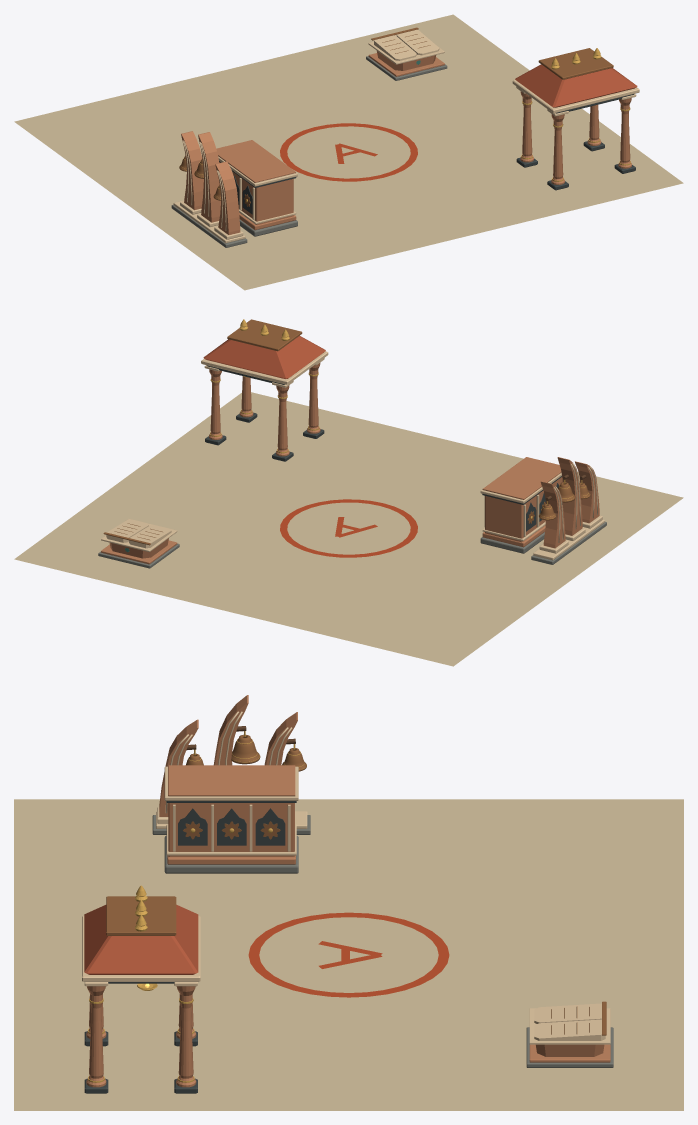
File: room-a.glb
3 views of the same model, one above another, from view 1: azimuth 30°, elevation 25°; view 2: azimuth 150°, elevation 25°; view 3: azimuth 270°, elevation 25° (orthographic). The views are drawn at different scales.
Parts seen in each view (by area): view 1: Surveyed floor · room-a, Ghat · open-sided audience mandapa · terracotta, Ghat · open-sided audience mandapa · sandstone, Ridge coping, Screen opaque masonry, Carved ghat rib 2, Ghat · open-sided audience mandapa · bronze, Carved ghat rib 1, Carved ghat rib 3, Ghat · open-sided audience mandapa · limestone, Ghat · open-sided audience mandapa · basalt, Sloped ledger leaf (+3 smaller); view 2: Surveyed floor · room-a, Ghat · open-sided audience mandapa · terracotta, Ghat · open-sided audience mandapa · sandstone, Ridge coping, Screen opaque masonry, Ghat · open-sided audience mandapa · bronze, Carved ghat rib 2, Carved ghat rib 3, Ghat · open-sided audience mandapa · limestone, Carved ghat rib 1, Ghat · open-sided audience mandapa · basalt, Sloped ledger leaf (+1 smaller); view 3: Surveyed floor · room-a, Ghat · open-sided audience mandapa · terracotta, Ridge coping, Screen opaque masonry, Ghat · open-sided audience mandapa · sandstone, Ghat · open-sided audience mandapa · bronze, Heel | river granite, Ghat · open-sided audience mandapa · limestone, Sloped ledger leaf.001, Sloped ledger leaf, Undercut skirt, Carved ghat rib 2 (+14 smaller).
Boxes of the visible parts, x1,y1,x2,y2 form: Surveyed floor · room-a: [14, 14, 683, 290]; Ghat · open-sided audience mandapa · terracotta: [515, 64, 637, 107]; Ghat · open-sided audience mandapa · sandstone: [520, 91, 631, 184]; Ridge coping: [216, 140, 295, 182]; Screen opaque masonry: [219, 162, 293, 225]; Carved ghat rib 2: [198, 132, 220, 222]; Ghat · open-sided audience mandapa · bronze: [538, 48, 613, 79]; Carved ghat rib 1: [215, 161, 240, 234]; Carved ghat rib 3: [181, 131, 203, 210]; Ghat · open-sided audience mandapa · limestone: [512, 80, 639, 116]; Ghat · open-sided audience mandapa · basalt: [516, 94, 635, 190]; Sloped ledger leaf: [374, 35, 416, 60]; Surveyed floor · room-a: [14, 392, 683, 666]; Ghat · open-sided audience mandapa · terracotta: [203, 335, 325, 378]; Ghat · open-sided audience mandapa · sandstone: [209, 363, 320, 456]; Ridge coping: [482, 457, 561, 499]; Screen opaque masonry: [485, 477, 562, 542]; Ghat · open-sided audience mandapa · bronze: [227, 319, 302, 351]; Carved ghat rib 2: [557, 457, 582, 535]; Carved ghat rib 3: [540, 481, 565, 548]; Ghat · open-sided audience mandapa · limestone: [201, 351, 328, 387]; Carved ghat rib 1: [575, 461, 599, 523]; Ghat · open-sided audience mandapa · basalt: [205, 365, 324, 461]; Sloped ledger leaf: [129, 525, 171, 548]; Surveyed floor · room-a: [14, 799, 683, 1110]; Ghat · open-sided audience mandapa · terracotta: [84, 904, 198, 974]; Ridge coping: [168, 765, 295, 796]; Screen opaque masonry: [168, 803, 294, 856]; Ghat · open-sided audience mandapa · sandstone: [86, 986, 196, 1087]; Ghat · open-sided audience mandapa · bronze: [106, 896, 176, 935]; Heel | river granite: [164, 835, 298, 873]; Ghat · open-sided audience mandapa · limestone: [82, 916, 200, 986]; Sloped ledger leaf.001: [534, 1019, 605, 1040]; Sloped ledger leaf: [534, 1003, 601, 1023]; Undercut skirt: [167, 855, 295, 864]; Carved ghat rib 2: [213, 695, 248, 765].
Size of the model in its own units: 22 by 5.43 by 20.
